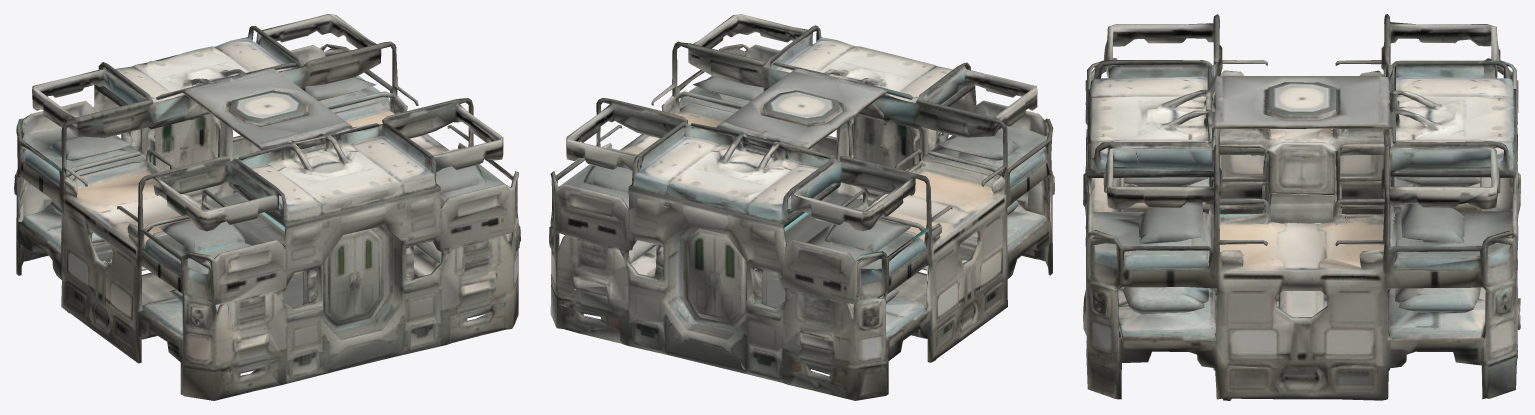
File: frigate_crew_quarters.repacked.glb
3 views of the same model, side by side, from view 1: azimuth 30°, elevation 25°; view 2: azimuth 150°, elevation 25°; view 3: azimuth 270°, elevation 25° (orthographic). The views are drawn at different scales.
Parts seen in each view (by area): view 1: Mesh1.0; view 2: Mesh1.0; view 3: Mesh1.0.
Part boxes in pixels (x1,y1,x2,y2): Mesh1.0: (14, 14, 520, 400); Mesh1.0: (549, 14, 1054, 400); Mesh1.0: (1083, 14, 1520, 400).
Bounding box in the file's own units: 1.91 × 1.04 × 1.93.
1 material, 1 textured.
